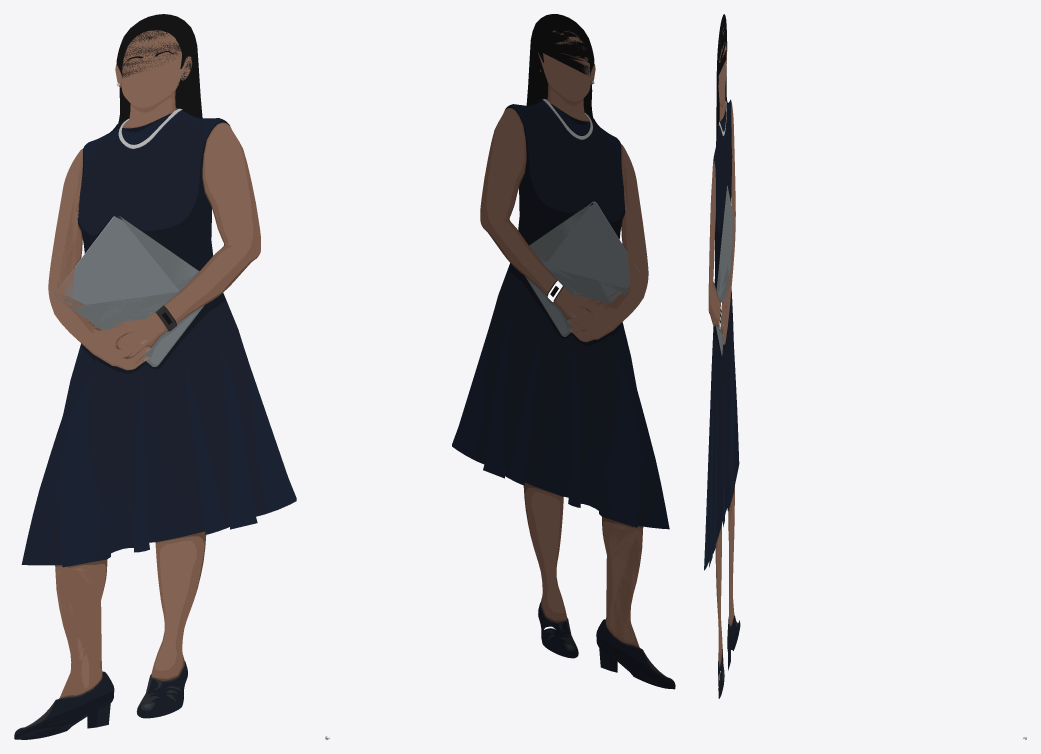
The model's file is Escher's _Penrose stairs.fbx.
3 views of the same model, side by side, from view 1: azimuth 30°, elevation 25°; view 2: azimuth 150°, elevation 25°; view 3: azimuth 270°, elevation 25° (orthographic). The views are drawn at different scales.
Visible parts, largest first — view 1: Sree1; view 2: Sree1; view 3: Sree1.
Part boxes in pixels (box(x1,y1,x2,y2)): Sree1: box(14, 14, 296, 739); Sree1: box(452, 14, 675, 689); Sree1: box(704, 14, 740, 698).
Size of the model in its own units: 24.64 by 62.73 by 27.21.
